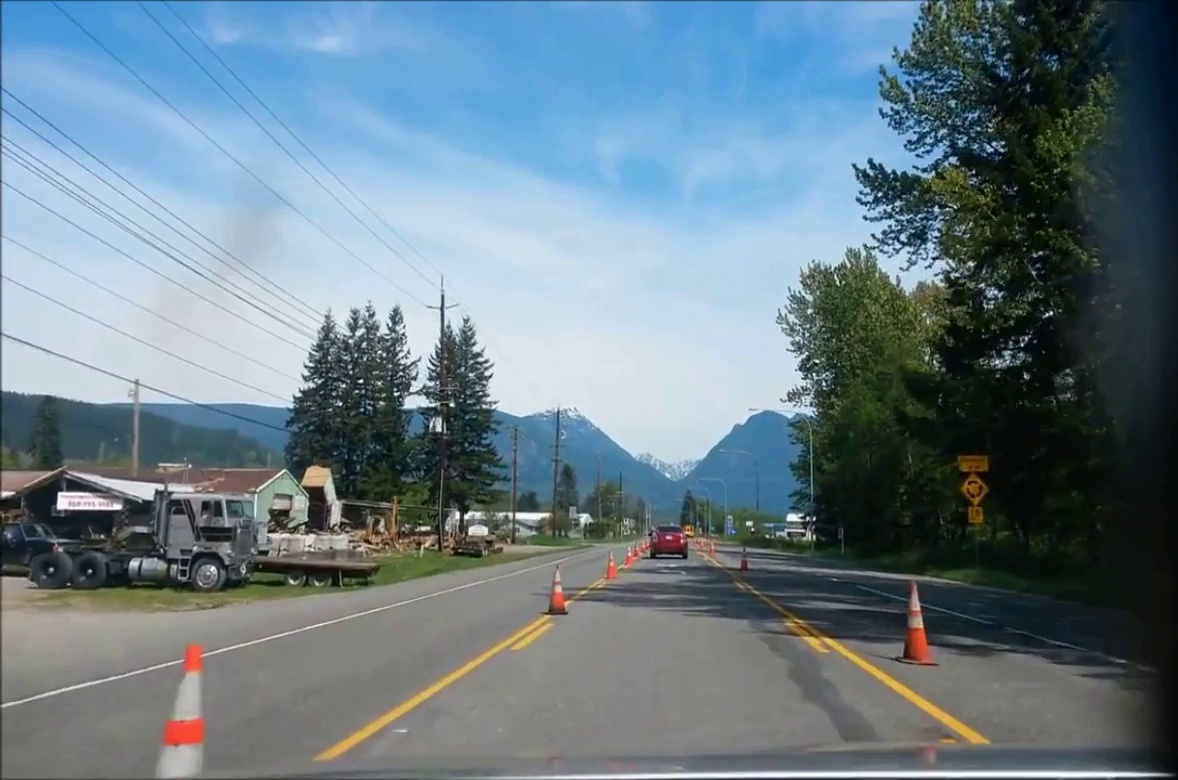Cone: (154, 644, 220, 776), (899, 581, 932, 666), (547, 565, 568, 610)
